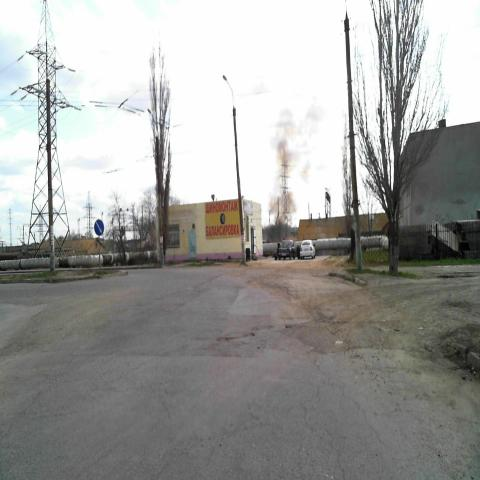4_2_1: (93, 217, 104, 236)
